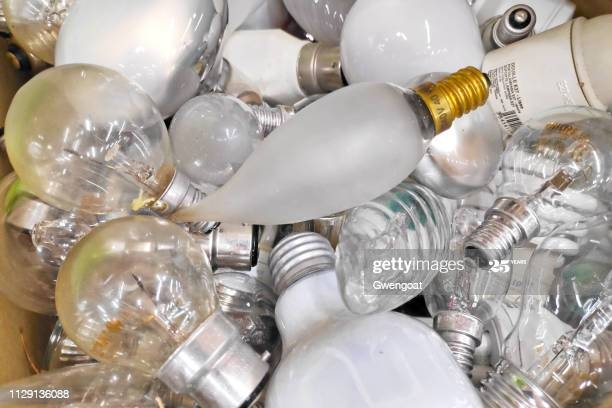glass: (165, 65, 499, 229), (47, 214, 277, 408), (4, 62, 242, 237), (256, 234, 488, 408), (462, 97, 612, 268), (479, 226, 612, 408), (338, 1, 499, 99)
